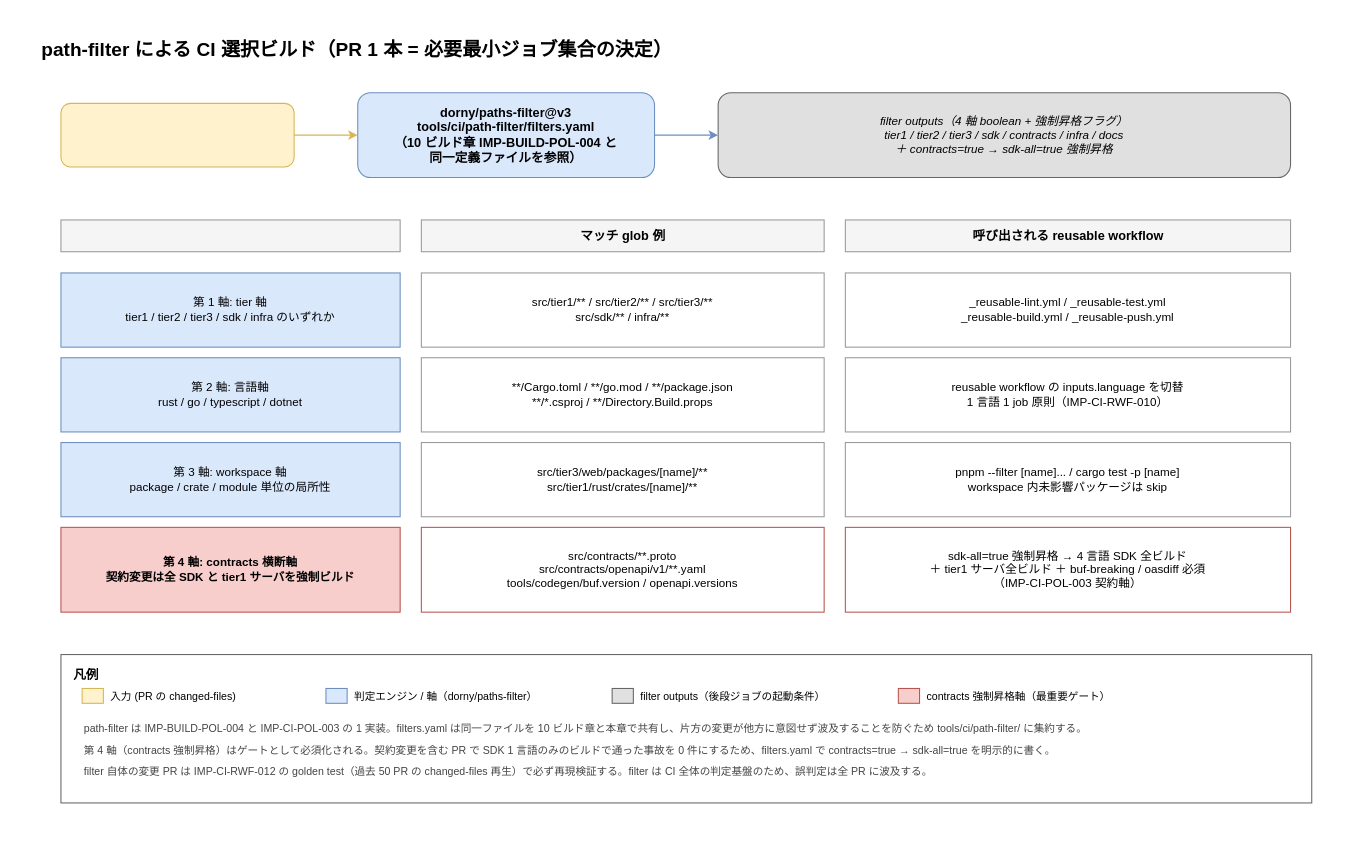
This 1350x863 diagram has some shape labels left out. Each missing label, with the centre of its shape:
GitHub PR / push changed-files set: the point at 177,134
判定 4 軸（読む順序）: the point at 230,235
